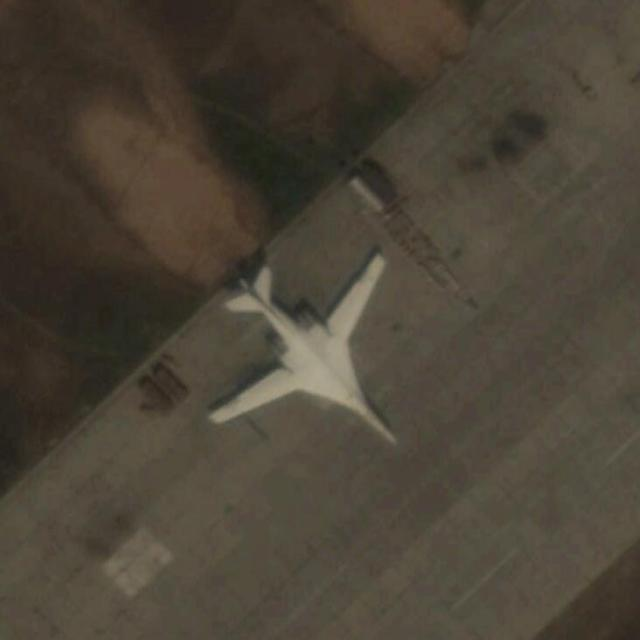fighter jet: (202, 244, 414, 471)
